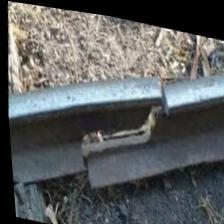person: (31, 37, 213, 221)
